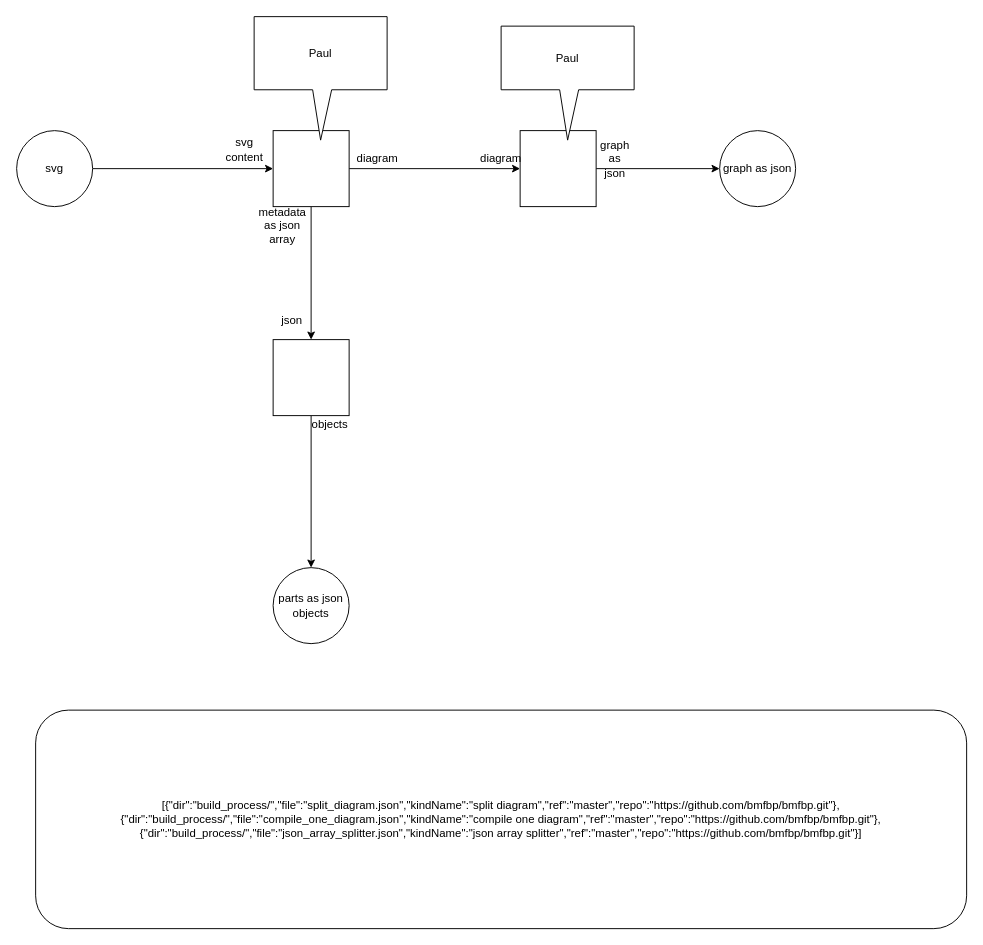
Image size: 983x945. Some labels were removed from this diagram. The shapes that lost their labels are listed below. From the top down, each one's centre as x and y in pixels, then its label:
At (310,168): "split diagram".
At (557,168): "compile one diagram".
At (310,377): "json array splitter".
